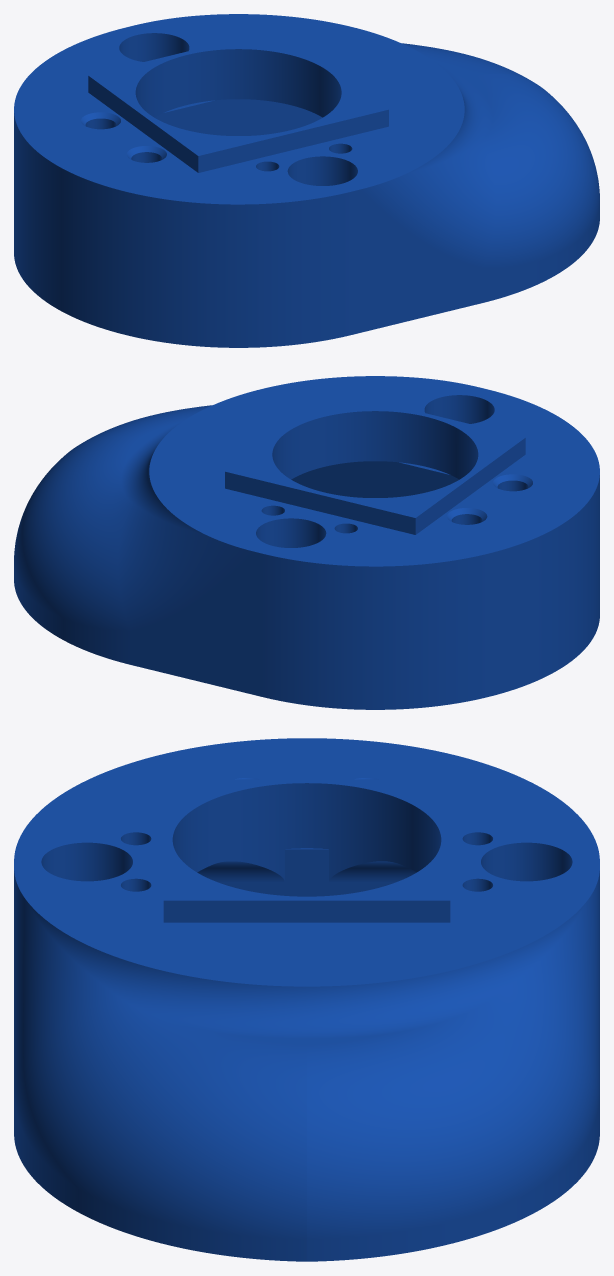
File: Assembly 2 - Part 1 (9).obj
3 renders of one model, top to bottom at view 1: azimuth 30°, elevation 25°; view 2: azimuth 150°, elevation 25°; view 3: azimuth 270°, elevation 25°, orthographic. The views are drawn at different scales.
Visible parts, largest first — view 1: mesh56, mesh71, mesh74, mesh62, mesh49, mesh72, mesh50, mesh47, mesh53, mesh73, mesh78, mesh76 (+4 smaller); view 2: mesh56, mesh71, mesh80, mesh61, mesh49, mesh75, mesh50, mesh27, mesh51, mesh77, mesh79, mesh76 (+4 smaller); view 3: mesh71, mesh74, mesh80, mesh78, mesh79, mesh76, mesh49, mesh50, mesh72, mesh75, mesh77, mesh73 (+6 smaller).
Boxes of the visible parts, box(x1,y1,x2,y2) form: mesh56: box(14, 113, 350, 347); mesh71: box(14, 14, 464, 204); mesh74: box(481, 99, 599, 268); mesh62: box(351, 190, 483, 334); mesh49: box(135, 49, 341, 117); mesh72: box(359, 141, 495, 268); mesh50: box(89, 29, 388, 155); mesh47: box(154, 99, 322, 135); mesh53: box(198, 109, 388, 172); mesh73: box(483, 204, 599, 302); mesh78: box(476, 73, 599, 196); mesh76: box(407, 59, 492, 173); mesh56: box(263, 475, 599, 709); mesh71: box(149, 376, 599, 566); mesh80: box(14, 461, 132, 630); mesh61: box(130, 552, 262, 696); mesh49: box(272, 411, 478, 479); mesh75: box(118, 503, 254, 630); mesh50: box(225, 391, 524, 517); mesh27: box(291, 461, 459, 497); mesh51: box(225, 471, 415, 534); mesh77: box(14, 566, 130, 664); mesh79: box(14, 435, 137, 558); mesh76: box(121, 421, 206, 535); mesh71: box(14, 738, 599, 986); mesh74: box(14, 997, 236, 1220); mesh80: box(377, 997, 599, 1220); mesh78: box(161, 1035, 306, 1239); mesh79: box(307, 1035, 452, 1239); mesh76: box(27, 901, 586, 1038); mesh49: box(172, 783, 441, 881); mesh50: box(163, 779, 450, 900); mesh72: box(14, 871, 117, 1084); mesh75: box(496, 871, 599, 1084); mesh77: box(307, 1095, 599, 1261); mesh73: box(14, 1096, 306, 1261).
Bounding box in the file's own units: 0.0652 × 0.0189 × 0.048.
